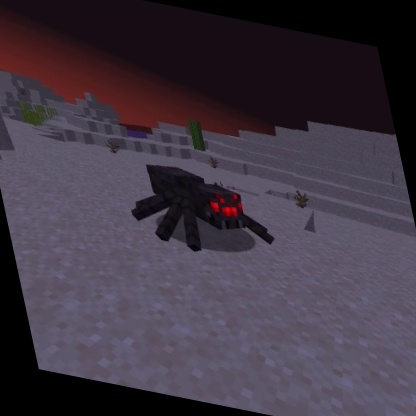spider: (116, 152, 284, 272)
